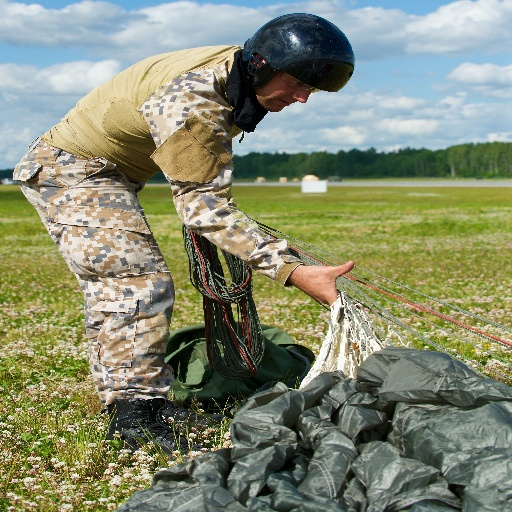hand: (289, 254, 358, 301)
